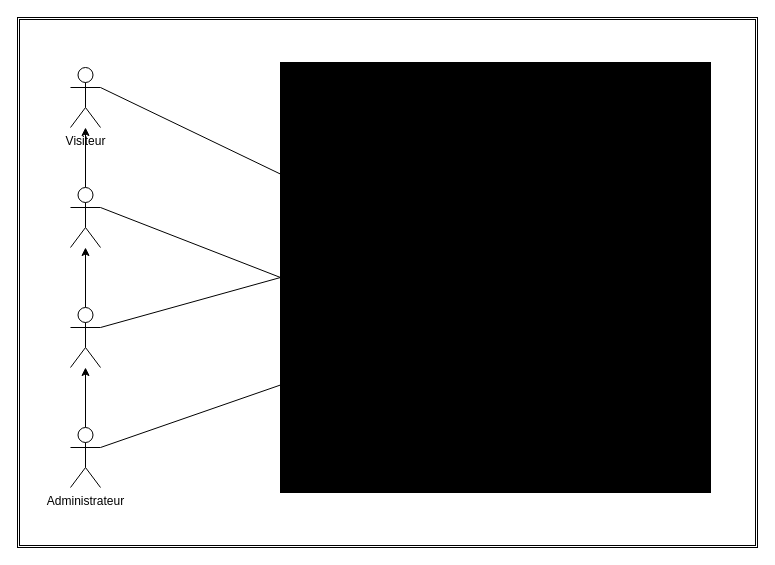
Some shapes in this 775 by 565 pixel diagram are drawn without their labels. The shapes that lost their labels are listed below. From the top down, each one's centre as x and y in pixels, then its label:
At point 85,217: "Visiteur Inscrit".
At point 85,337: "Rédacteur".
